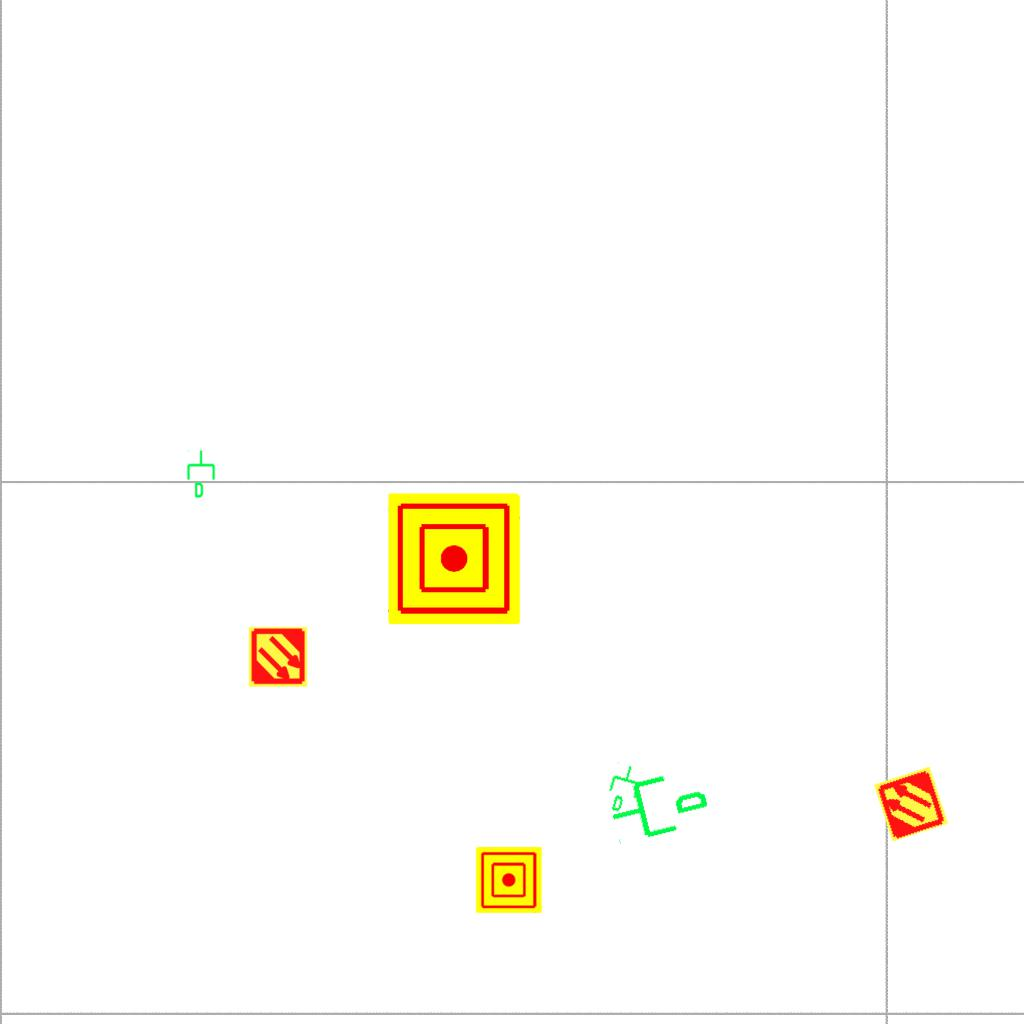ASR_Ansaugrauchmelder: (871, 764, 951, 844), (247, 626, 309, 688)
Datenanschluss_einfach: (601, 758, 716, 850), (601, 760, 649, 818), (185, 449, 219, 499)
NAM-Nichtautomatischer_Melder: (388, 493, 520, 625), (476, 847, 542, 913)
